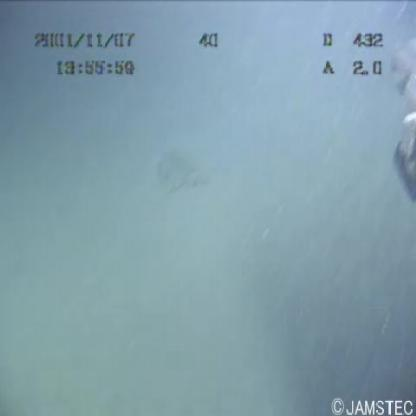Rov: (387, 30, 416, 209)
Rác: (142, 132, 215, 198)
